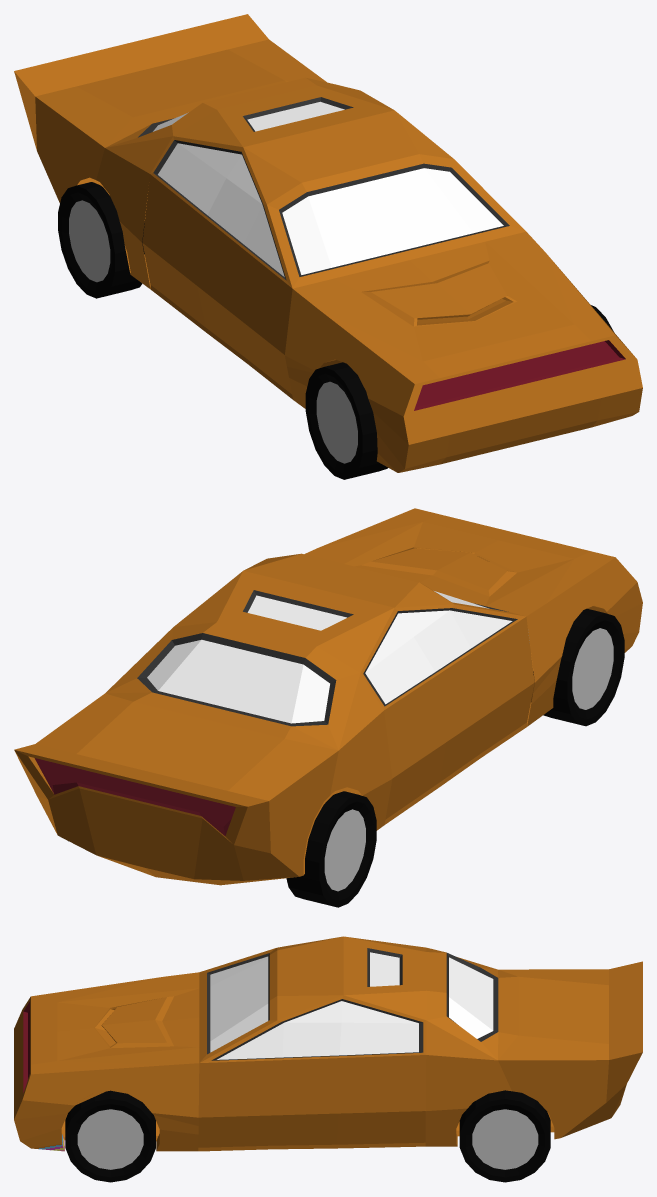
Rendered from SportsCarLowPoly_1.fbx.
The picture shows the model from 3 angles, top to bottom: view 1: azimuth 30°, elevation 25°; view 2: azimuth 150°, elevation 25°; view 3: azimuth 270°, elevation 25°; orthographic projection. The views are drawn at different scales.
Visible parts, largest first — view 1: Cube, Cube.002, Cylinder, Cylinder.001; view 2: Cube, Cube.002, Cylinder.001, Cylinder; view 3: Cube, Cube.002, Cylinder.001, Cylinder.
Boxes of the visible parts, bbox=[...] form: Cube: bbox=[14, 14, 642, 472]; Cube.002: bbox=[142, 136, 292, 399]; Cylinder: bbox=[305, 305, 613, 479]; Cylinder.001: bbox=[58, 182, 144, 298]; Cube: bbox=[14, 508, 642, 885]; Cube.002: bbox=[360, 604, 534, 824]; Cylinder.001: bbox=[68, 791, 376, 907]; Cylinder: bbox=[533, 608, 624, 726]; Cube: bbox=[14, 936, 642, 1151]; Cube.002: bbox=[198, 995, 426, 1151]; Cylinder.001: bbox=[459, 1090, 550, 1182]; Cylinder: bbox=[65, 1090, 155, 1182].
Bounding box in the file's own units: 114 × 86.81 × 299.
1 material, 1 textured.
